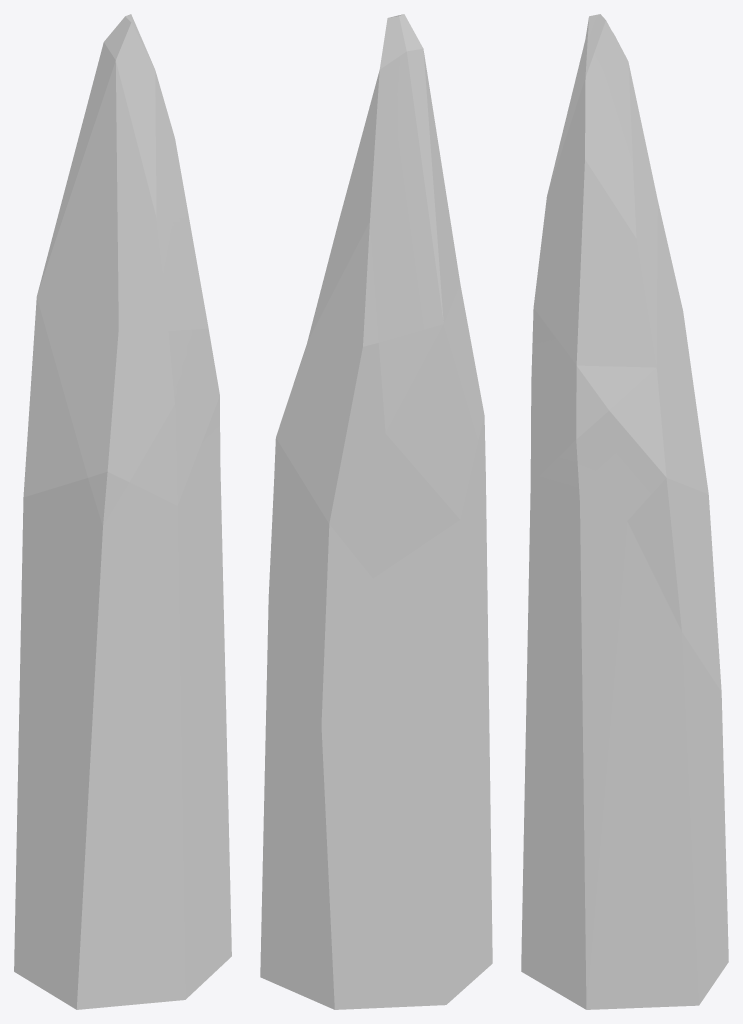
Rendered from mining_PP_Crystal_Single_08_Silver.gltf.
3 views of the same model, side by side, from view 1: azimuth 30°, elevation 25°; view 2: azimuth 150°, elevation 25°; view 3: azimuth 270°, elevation 25° (orthographic).
Visible parts, largest first — view 1: PP_Crystal_Single_08_Silver; view 2: PP_Crystal_Single_08_Silver; view 3: PP_Crystal_Single_08_Silver.
Part boxes in pixels (x1=…): PP_Crystal_Single_08_Silver: x1=14, y1=14, x2=231, y2=1009; PP_Crystal_Single_08_Silver: x1=260, y1=14, x2=492, y2=1009; PP_Crystal_Single_08_Silver: x1=521, y1=14, x2=728, y2=1009.
Bounding box in the file's own units: 0.1361 × 0.687 × 0.1364.
Materials: 1 (1 with a texture image).
